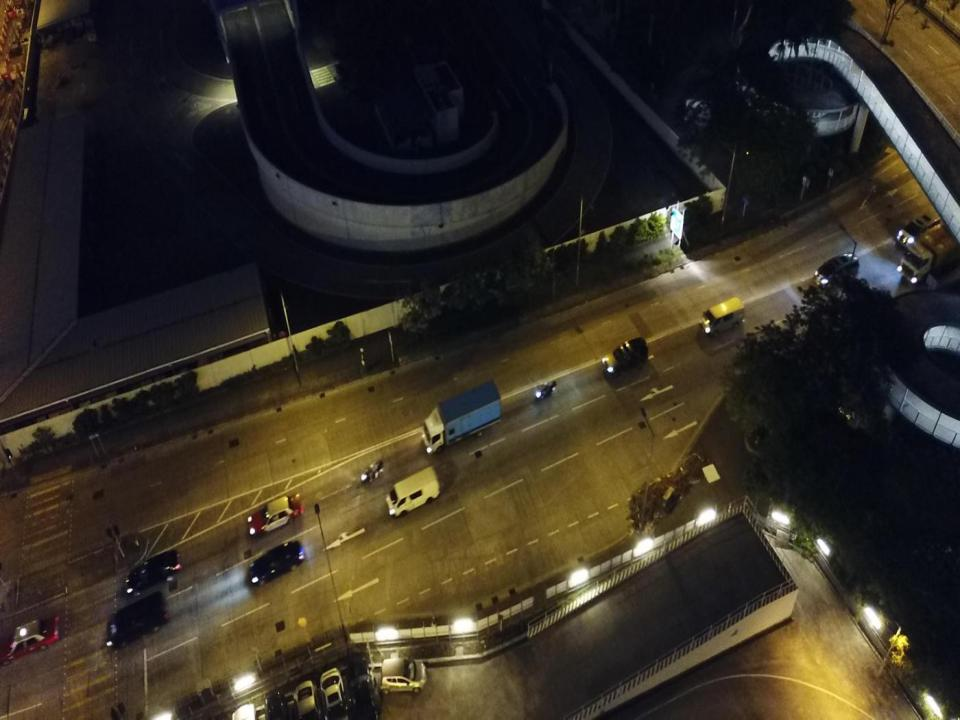car: (0, 615, 59, 666), (124, 547, 181, 594), (248, 540, 304, 587), (246, 490, 303, 536), (346, 659, 379, 719), (380, 658, 426, 692), (320, 666, 349, 719), (294, 681, 321, 719), (264, 692, 289, 719)
truck: (422, 379, 502, 455), (897, 228, 960, 284)
van: (106, 591, 169, 651), (385, 465, 440, 517), (699, 297, 745, 336), (602, 337, 648, 375), (897, 211, 941, 249), (814, 253, 860, 288)
